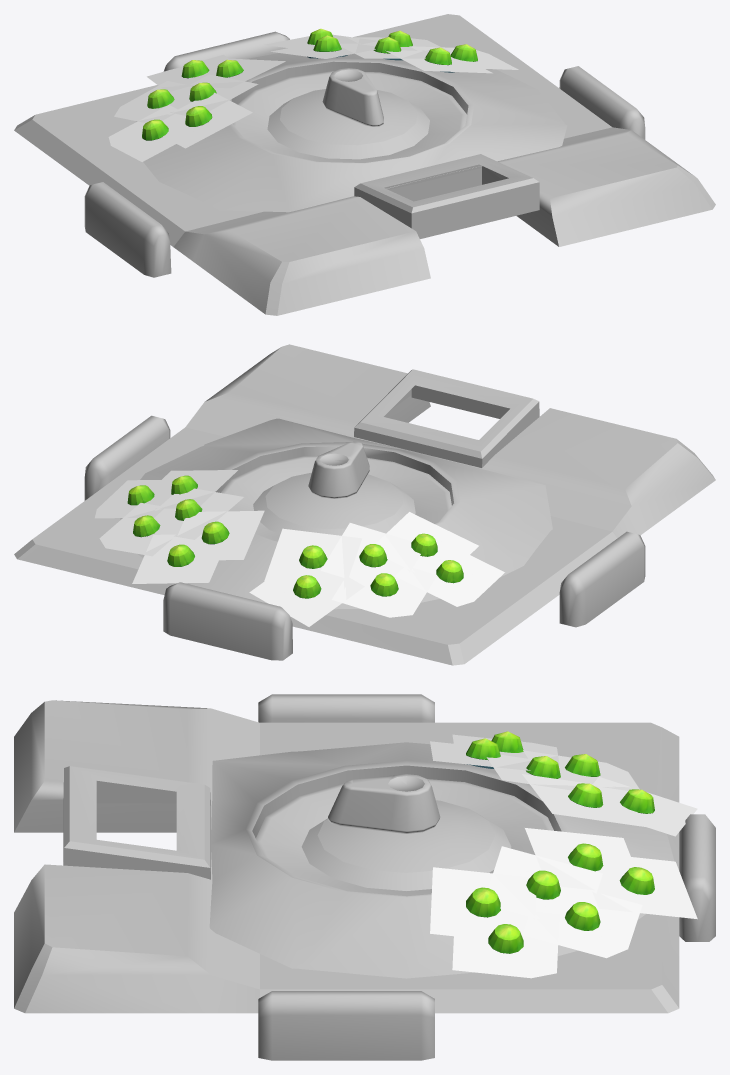
The model's file is NeedyKnobComponent.fbx.
3 views of the same model, one above another, from view 1: azimuth 30°, elevation 25°; view 2: azimuth 150°, elevation 25°; view 3: azimuth 270°, elevation 25° (orthographic). The views are drawn at different scales.
Visible parts, largest first — view 1: Background, BackingPiece, Dial, LightGlow (×11), Red_Knob; view 2: Background, LightGlow (×12), BackingPiece, Dial, Red_Knob, LED_11_on, LED_04_on, LED_10_on, LED_05_on; view 3: Background, BackingPiece, LightGlow (×12), Dial, Red_Knob, LED_07_on, LED_01_on, LED_08_on, LED_02_on, LED_09_on, LED_03_on, LED_10_on (+3 smaller).
Boxes of the visible parts, x1=… form: Background: x1=14, y1=14, x2=715, y2=315; BackingPiece: x1=136, y1=53, x2=567, y2=212; Dial: x1=232, y1=71, x2=466, y2=162; LightGlow (×11): x1=108, y1=34, x2=518, y2=161; Red_Knob: x1=322, y1=68, x2=383, y2=126; Background: x1=14, y1=344, x2=715, y2=665; LightGlow (×12): x1=95, y1=470, x2=504, y2=626; BackingPiece: x1=120, y1=418, x2=552, y2=609; Dial: x1=221, y1=455, x2=451, y2=541; Red_Knob: x1=308, y1=441, x2=369, y2=498; LED_11_on: x1=370, y1=573, x2=398, y2=596; LED_04_on: x1=299, y1=545, x2=327, y2=568; LED_10_on: x1=293, y1=575, x2=321, y2=598; LED_05_on: x1=359, y1=544, x2=387, y2=567; Background: x1=14, y1=694, x2=715, y2=1060; BackingPiece: x1=209, y1=742, x2=674, y2=978; LightGlow (×12): x1=430, y1=734, x2=697, y2=978; Dial: x1=256, y1=779, x2=553, y2=896; Red_Knob: x1=328, y1=774, x2=440, y2=833; LED_07_on: x1=488, y1=924, x2=523, y2=953; LED_01_on: x1=466, y1=887, x2=500, y2=917; LED_08_on: x1=565, y1=902, x2=600, y2=930; LED_02_on: x1=526, y1=870, x2=560, y2=899; LED_09_on: x1=619, y1=867, x2=654, y2=894; LED_03_on: x1=568, y1=843, x2=603, y2=871; LED_10_on: x1=620, y1=789, x2=654, y2=813.
Size of the model in its own units: 0.2 by 0.0374 by 0.1901.
